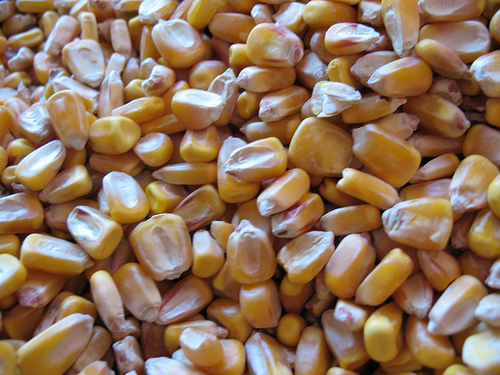corn: (0, 2, 499, 374)
